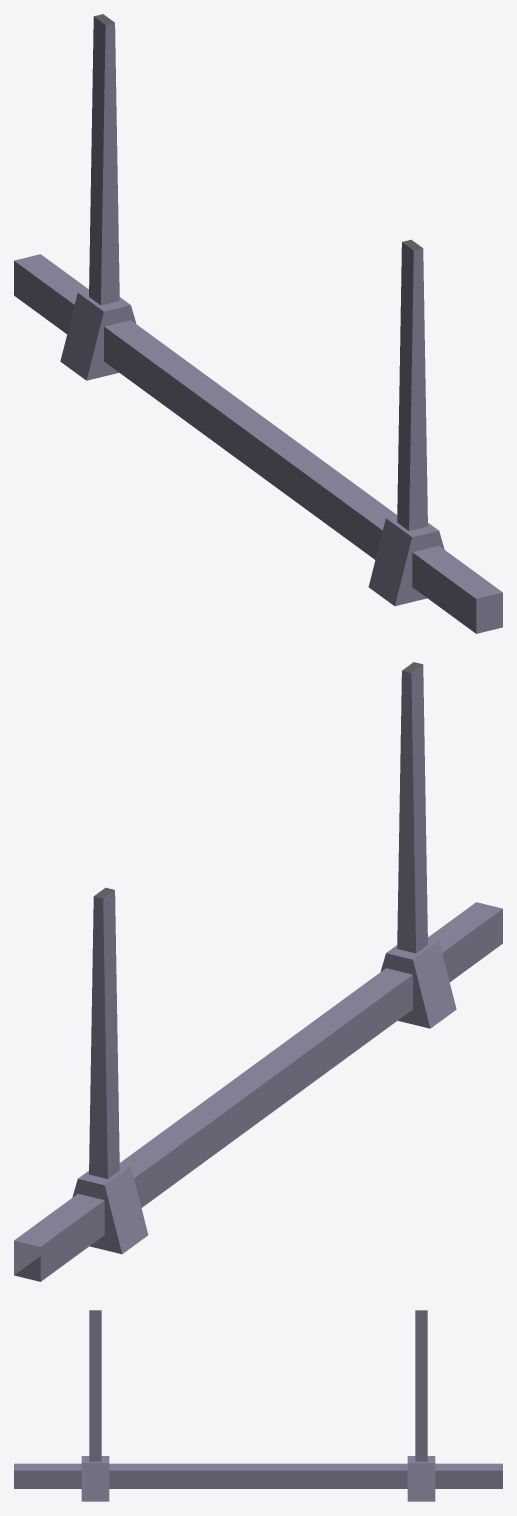
The model's file is walldoorcap01.fbx.
3 renders of one model, top to bottom at view 1: azimuth 30°, elevation 25°; view 2: azimuth 150°, elevation 25°; view 3: azimuth 270°, elevation 25°, orthographic. The views are drawn at different scales.
Visible parts, largest first — view 1: Cube; view 2: Cube; view 3: Cube.
Boxes of the visible parts, x1,y1,x2,y2 form: Cube: [14, 14, 502, 633]; Cube: [14, 662, 502, 1281]; Cube: [14, 1310, 502, 1501].
Bounding box in the file's own units: 0.9275 × 4.93 × 12.
Materials: 1 (1 with a texture image).
